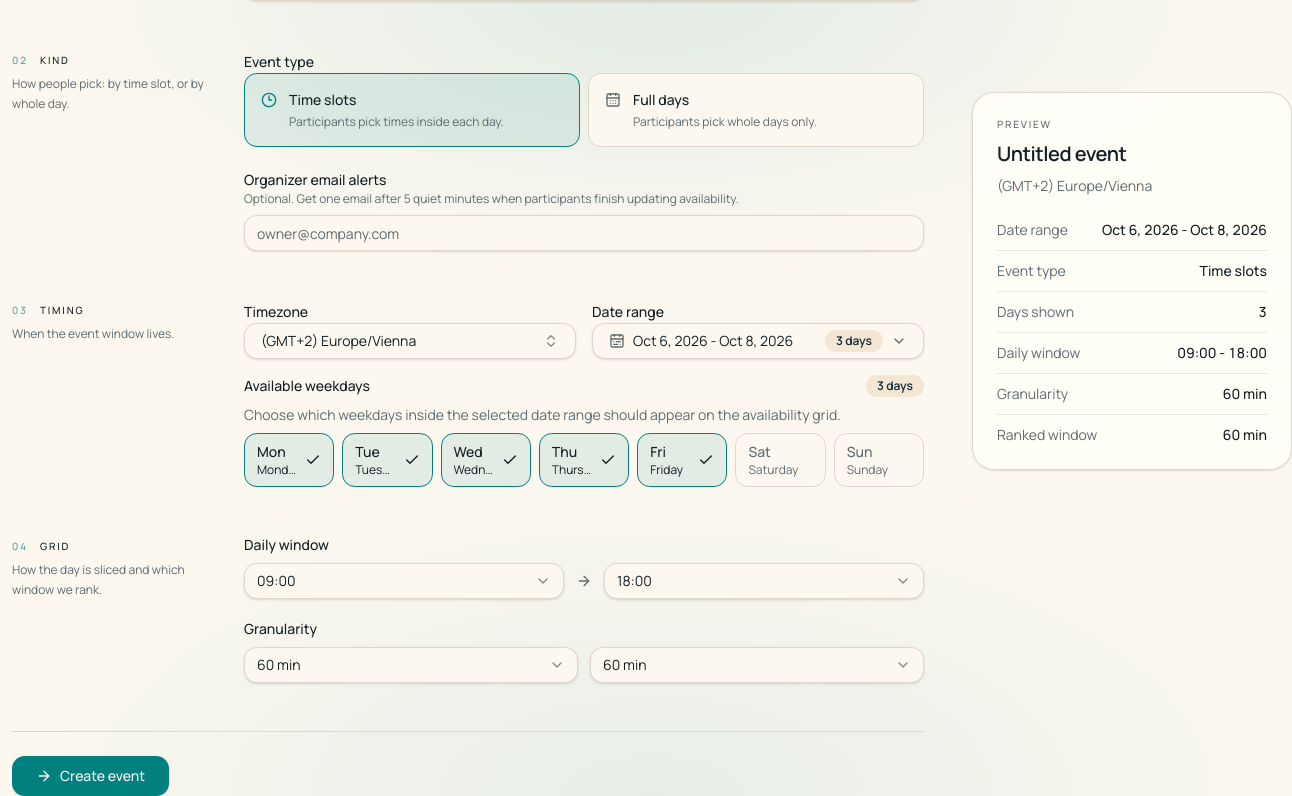
CreateEventForm › shows daily start options immediately without requiring a daily end selection first
(page scrolled)
Click the dropdown named "Daily start". click: (276, 580)
box: [244, 563, 564, 599]
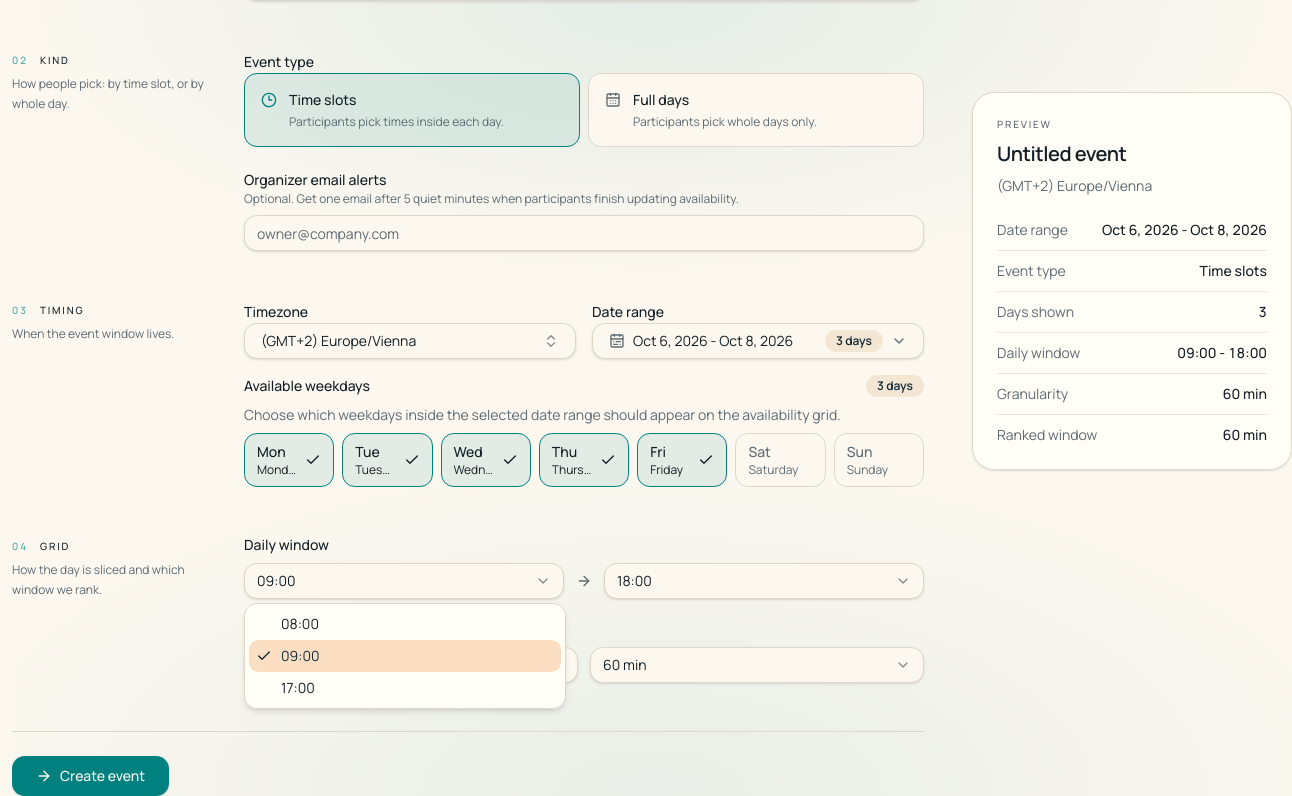
Expected: the option "08:00" is shown, [281, 614, 319, 633]
Expected: the option "09:00" is shown, [249, 640, 561, 672]
Expected: the option "17:00" is shown, [281, 678, 315, 697]
